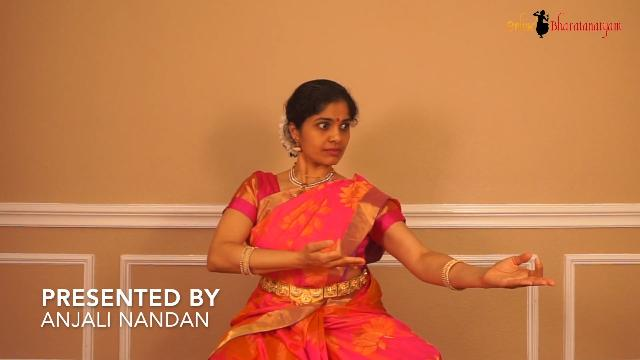aral: (468, 249, 562, 301)
